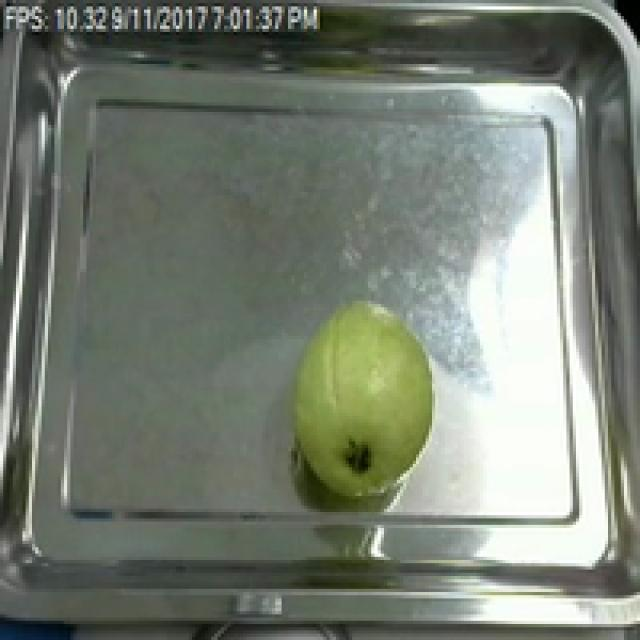Fruit: (278, 294, 445, 512)
